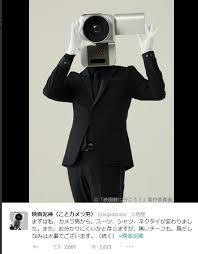no more kid: (77, 13, 146, 68)
